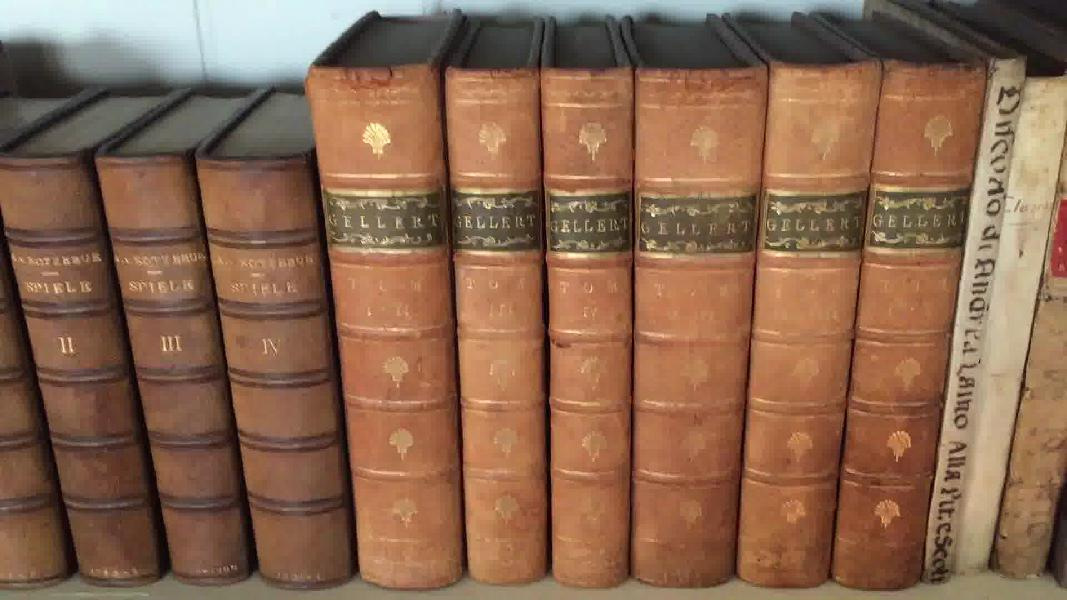Aa6-18_23: (298, 17, 988, 588)
Aa6-24: (915, 55, 1033, 590)
Aa6-25: (938, 29, 1066, 579)
